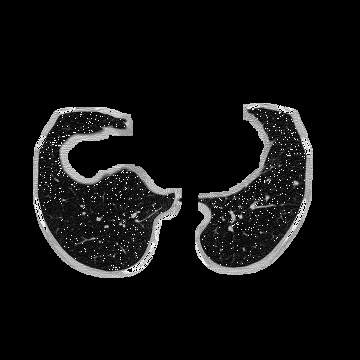PN: (294, 181, 298, 185)
